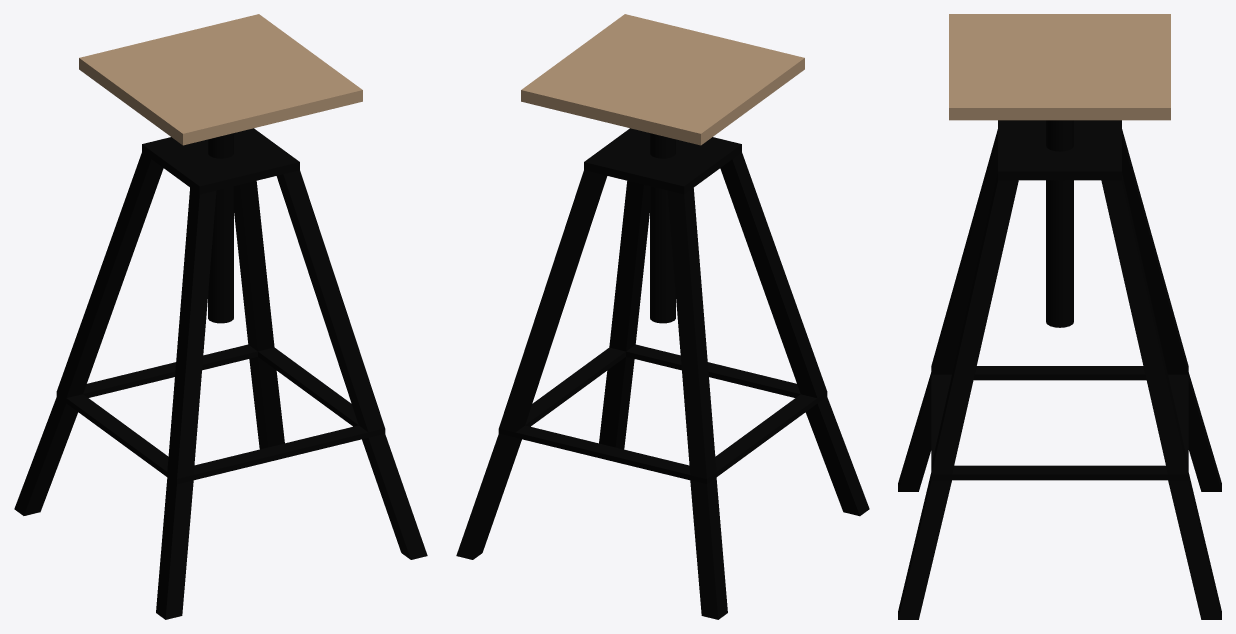
The model's file is SculptStand.fbx.
The picture shows the model from 3 angles, left to right: view 1: azimuth 30°, elevation 25°; view 2: azimuth 150°, elevation 25°; view 3: azimuth 270°, elevation 25°; orthographic projection. The views are drawn at different scales.
Parts seen in each view (by area): view 1: SculptStand; view 2: SculptStand; view 3: SculptStand.
Part boxes in pixels (x1,y1,x2,y2): SculptStand: (14, 14, 427, 619); SculptStand: (456, 14, 869, 619); SculptStand: (898, 14, 1221, 619).
Bounding box in the file's own units: 291 × 487 × 291.
